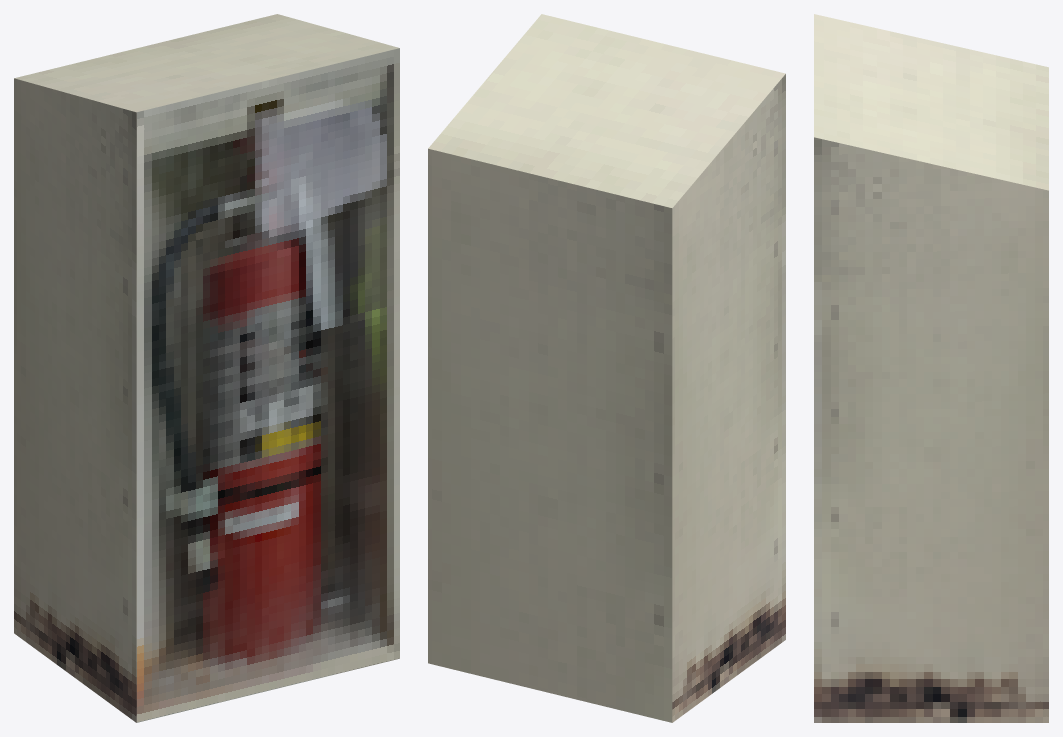
File: fire_extenguisher_case.glb
The picture shows the model from 3 angles, left to right: view 1: azimuth 30°, elevation 25°; view 2: azimuth 150°, elevation 25°; view 3: azimuth 270°, elevation 25°; orthographic projection. The views are drawn at different scales.
Parts seen in each view (by area): view 1: fire_extenguisher_case; view 2: fire_extenguisher_case; view 3: fire_extenguisher_case.
Boxes of the visible parts, box(x1,y1,x2,y2) form: fire_extenguisher_case: box(14, 14, 399, 722); fire_extenguisher_case: box(428, 14, 785, 722); fire_extenguisher_case: box(814, 14, 1048, 722).
Bounding box in the file's own units: 0.2524 × 0.5589 × 0.2032.
1 material, 1 textured.
